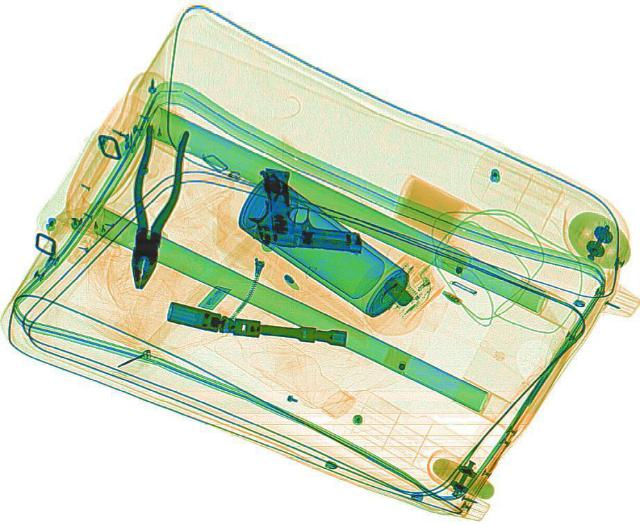Gun: (242, 166, 374, 252)
Pliers: (115, 123, 189, 290)
